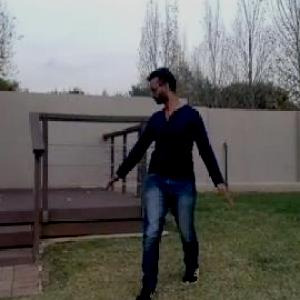land: (99, 61, 230, 299)
